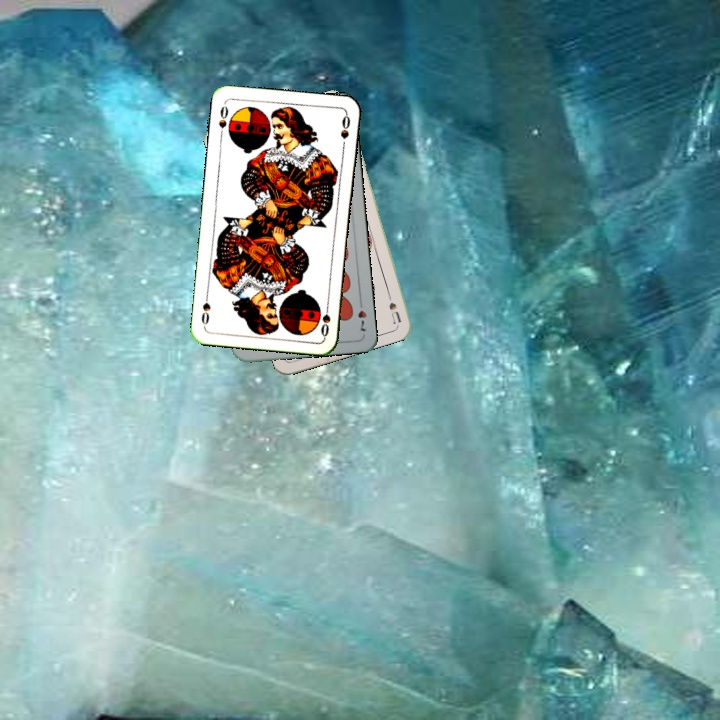H7: (354, 295, 369, 334)
SO: (316, 299, 333, 339), (215, 102, 231, 140)
SU: (383, 285, 404, 325)
